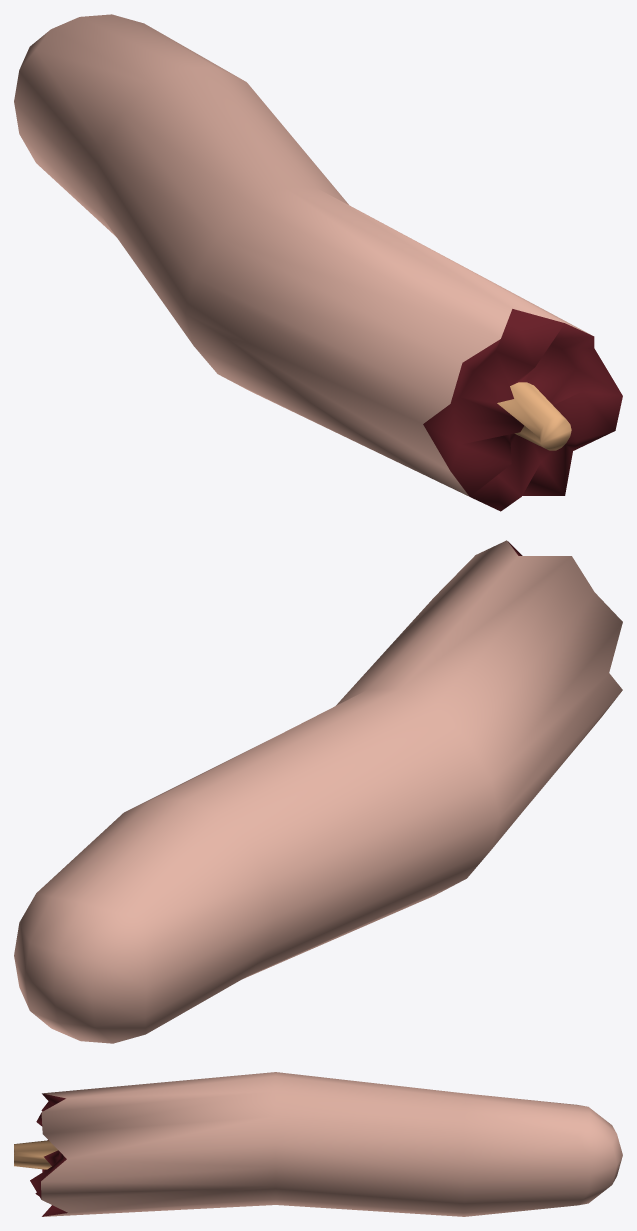
Rendered from S_Finger.fbx.
The picture shows the model from 3 angles, top to bottom: view 1: azimuth 30°, elevation 25°; view 2: azimuth 150°, elevation 25°; view 3: azimuth 270°, elevation 25°; orthographic projection. The views are drawn at different scales.
Parts seen in each view (by area): view 1: S_Finger; view 2: S_Finger; view 3: S_Finger.
Part boxes in pixels (left/top/right/bottom): S_Finger: left=14, top=14, right=622, bottom=511; S_Finger: left=14, top=540, right=622, bottom=1043; S_Finger: left=14, top=1072, right=622, bottom=1216.
Bounding box in the file's own units: 3.63 × 2.91 × 12.96.
